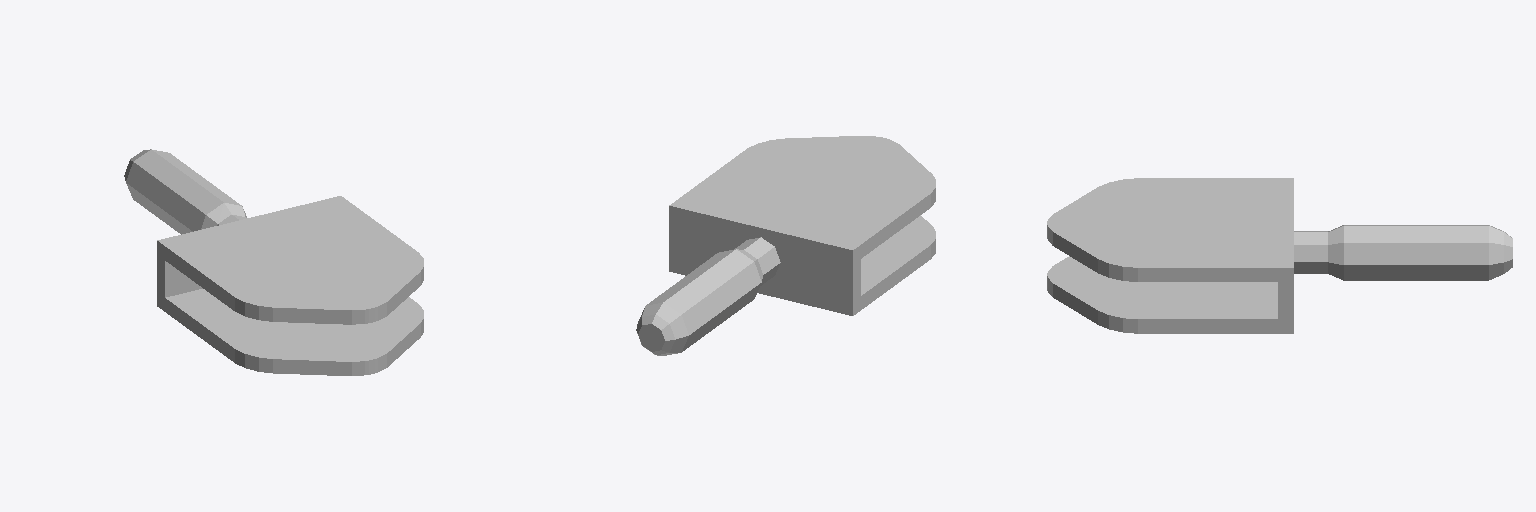
The model's file is caliper_hat.obj.
The picture shows the model from 3 angles: view 1: azimuth 30°, elevation 25°; view 2: azimuth 150°, elevation 25°; view 3: azimuth 270°, elevation 25°; orthographic projection.
Parts seen in each view (by area): view 1: Cube.004; view 2: Cube.004; view 3: Cube.004.
Boxes of the visible parts, x1=… form: Cube.004: x1=124, y1=149, x2=423, y2=375; Cube.004: x1=636, y1=136, x2=935, y2=355; Cube.004: x1=1047, y1=178, x2=1512, y2=333.
Bounding box in the file's own units: 0.014 × 0.0048 × 0.0306.